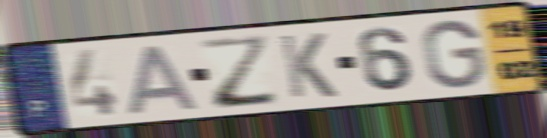4: (69, 47, 120, 120)
6: (356, 27, 416, 94)
A: (126, 42, 204, 117)
G: (420, 18, 488, 90)
K: (276, 30, 341, 100)
Z: (197, 32, 282, 111)
